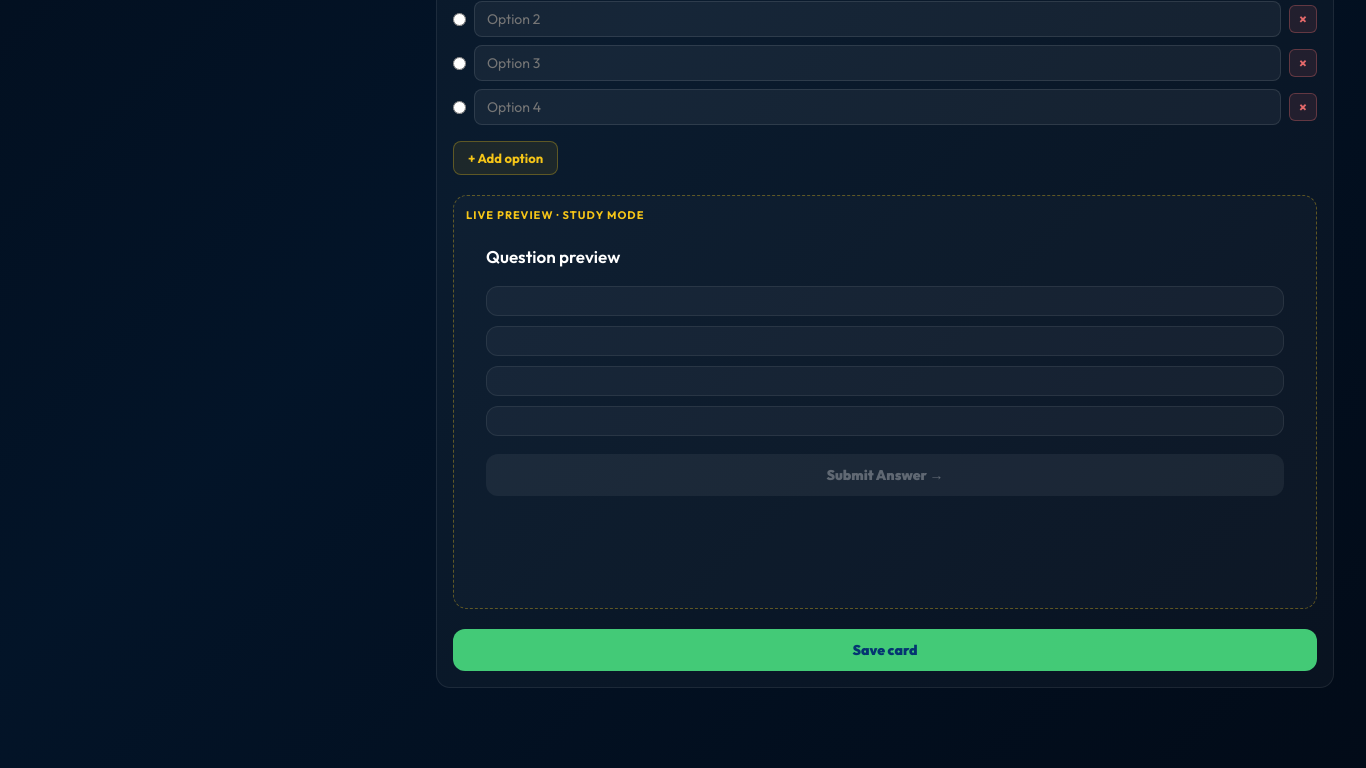
Scenario: NGNCreateScreen › Save validates that title and question are present
(page scrolled)
Click the button with test id "save-btn" at (885, 650), box [453,628,1317,670]
(page scrolled)
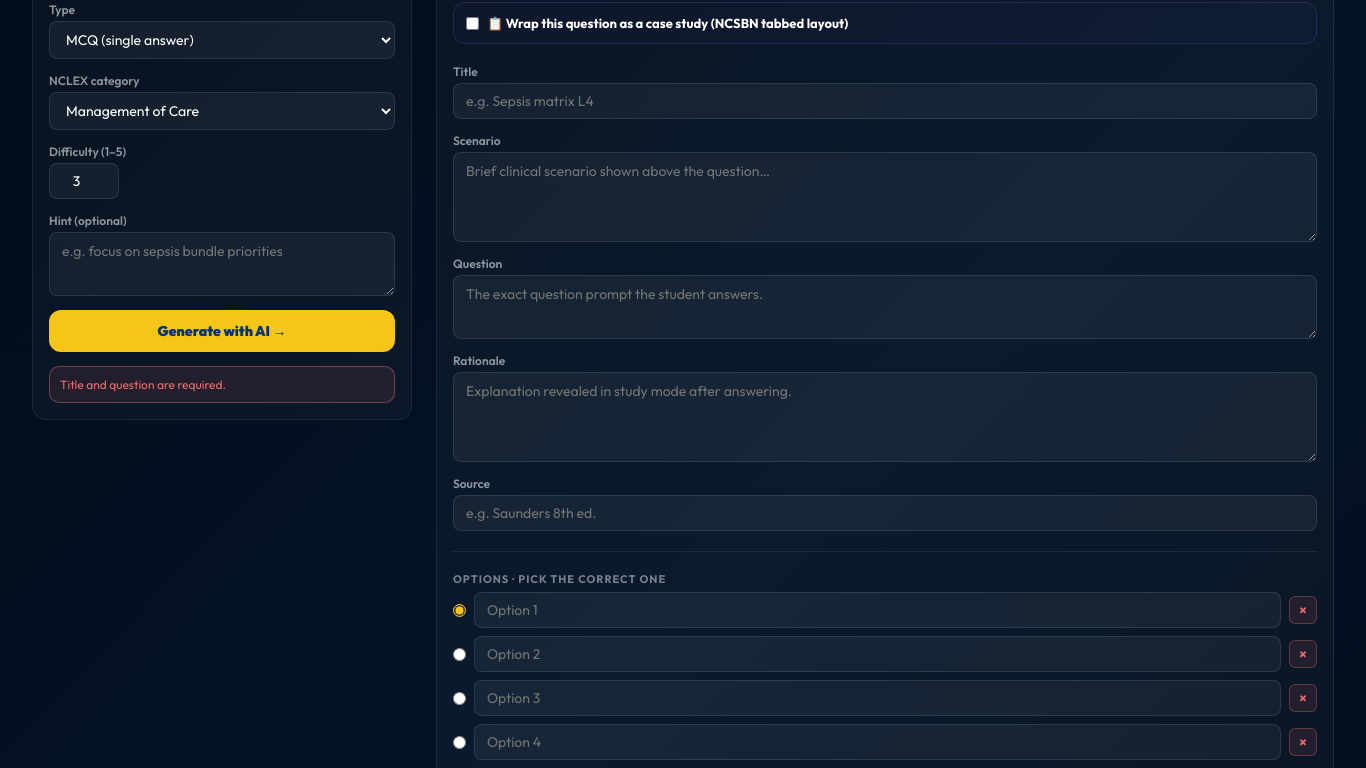
Expected: the text with test id "error-msg" shows "Title and question are required", [60,377,226,392]
